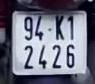1: (66, 14, 76, 41)
2: (22, 43, 36, 71), (51, 42, 62, 71)
4: (34, 14, 46, 41), (38, 43, 47, 71)
6: (64, 42, 78, 70)
9: (22, 14, 34, 42)
K: (53, 14, 64, 41)
